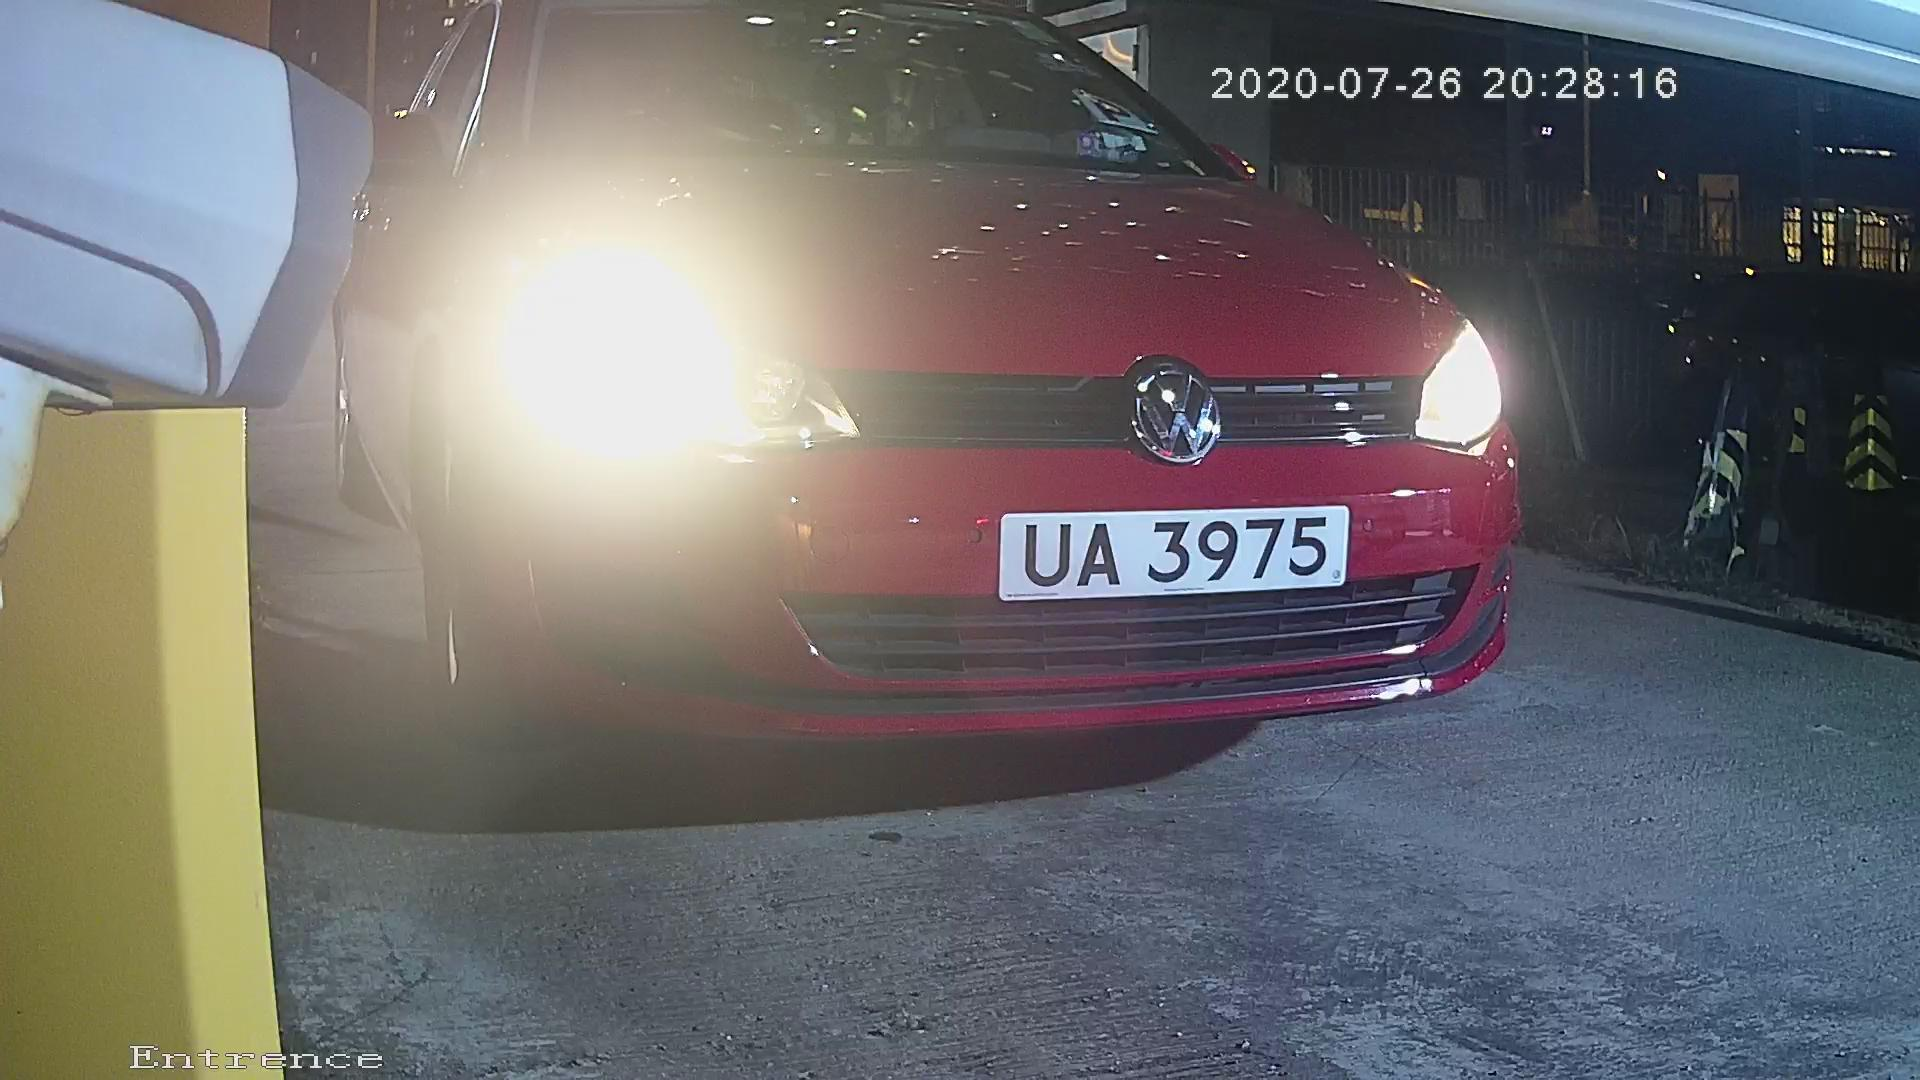Car: (138, 68, 1621, 782)
License Plate: (955, 492, 1372, 620)
